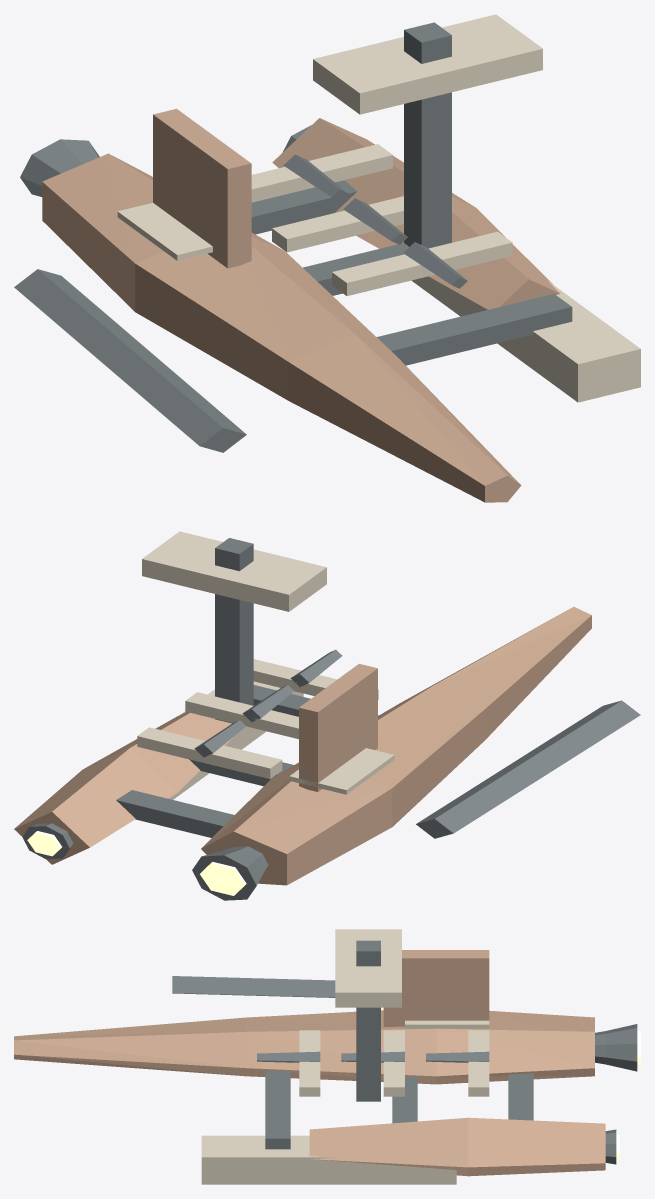
3 renders of one model, top to bottom at view 1: azimuth 30°, elevation 25°; view 2: azimuth 150°, elevation 25°; view 3: azimuth 270°, elevation 25°, orthographic. The views are drawn at different scales.
Size of the model in its own units: 9.54 by 5.58 by 15.1.
